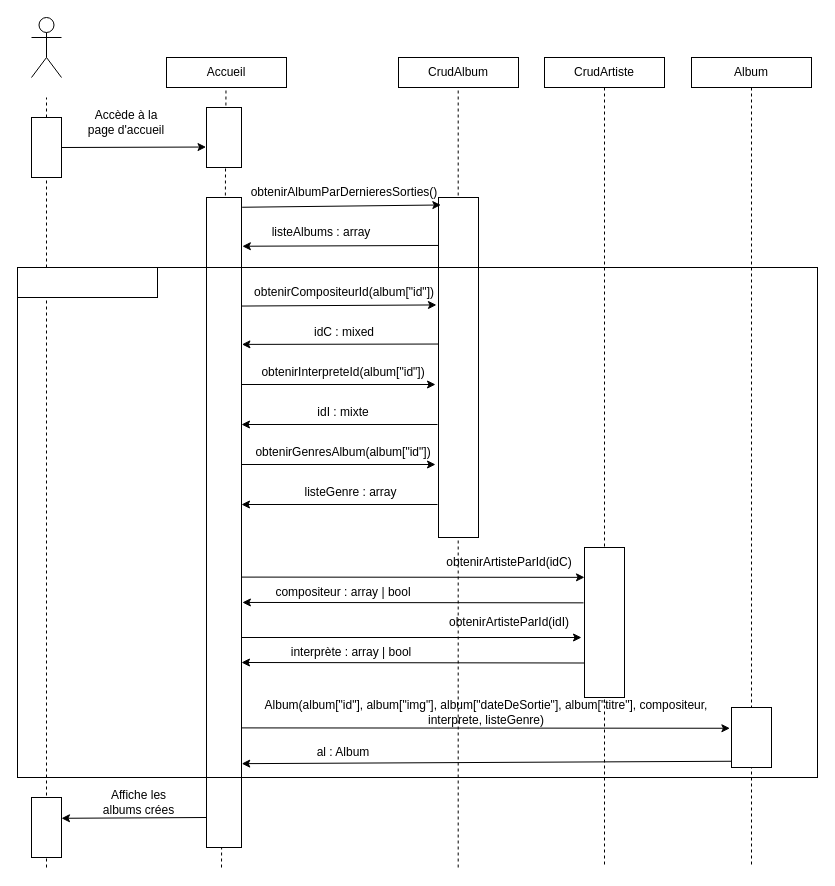
The diagram is 835 pixels wide and 886 high, and some of its shapes have lost their labels. The shapes that lost their labels are listed below. From the top down, each one's centre as x and y in pixels, then its label:
At pixel 46 47: "Utilisateur".
At pixel 87 282: "loop i de 0 à taille de listeAlbums".
